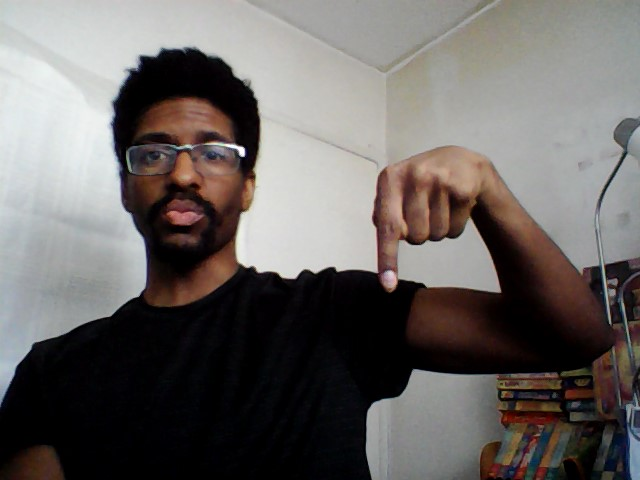q: (367, 141, 494, 298)
